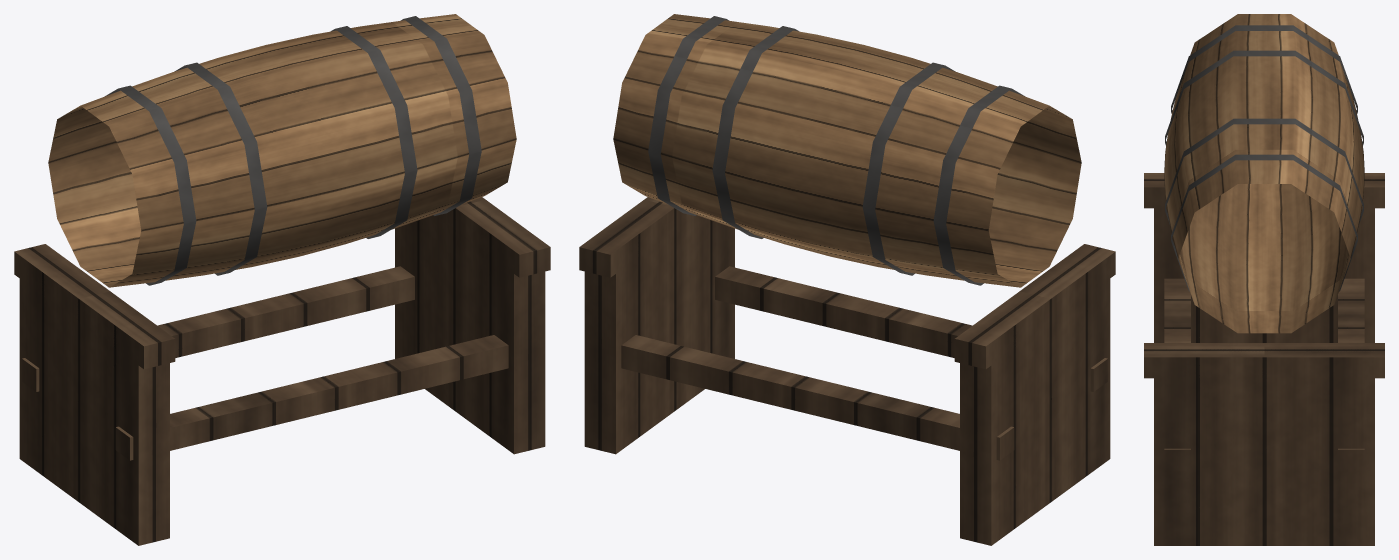
Rendered from Barrel_Holder_LOD1.gltf.
3 renders of one model, left to right at view 1: azimuth 30°, elevation 25°; view 2: azimuth 150°, elevation 25°; view 3: azimuth 270°, elevation 25°, orthographic. The views are drawn at different scales.
Parts seen in each view (by area): view 1: Barrel_Holder_LOD1; view 2: Barrel_Holder_LOD1; view 3: Barrel_Holder_LOD1.
Part boxes in pixels (left/top/right/bottom): Barrel_Holder_LOD1: left=14, top=14, right=550, bottom=545; Barrel_Holder_LOD1: left=579, top=14, right=1115, bottom=545; Barrel_Holder_LOD1: left=1144, top=14, right=1384, bottom=545.
Bounding box in the file's own units: 1.36 × 1.24 × 0.74.
Materials: 3 (3 with a texture image).
